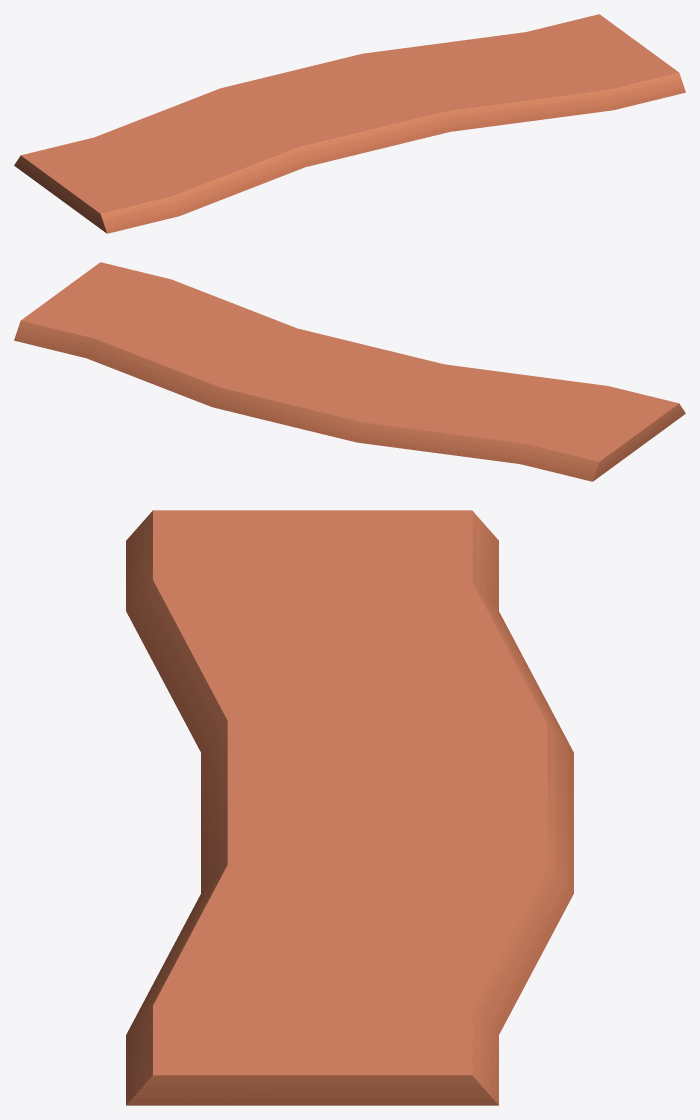
The model's file is path-straight.glb.
3 views of the same model, one above another, from view 1: azimuth 30°, elevation 25°; view 2: azimuth 150°, elevation 25°; view 3: azimuth 270°, elevation 25° (orthographic). The views are drawn at different scales.
Parts seen in each view (by area): view 1: path-straight; view 2: path-straight; view 3: path-straight.
Boxes of the visible parts, x1=… form: path-straight: x1=14, y1=14, x2=685, y2=233; path-straight: x1=14, y1=262, x2=685, y2=481; path-straight: x1=126, y1=510, x2=573, y2=1105.
Size of the model in its own units: 1 by 0.025 by 0.335.
Materials: 1 (1 with a texture image).
